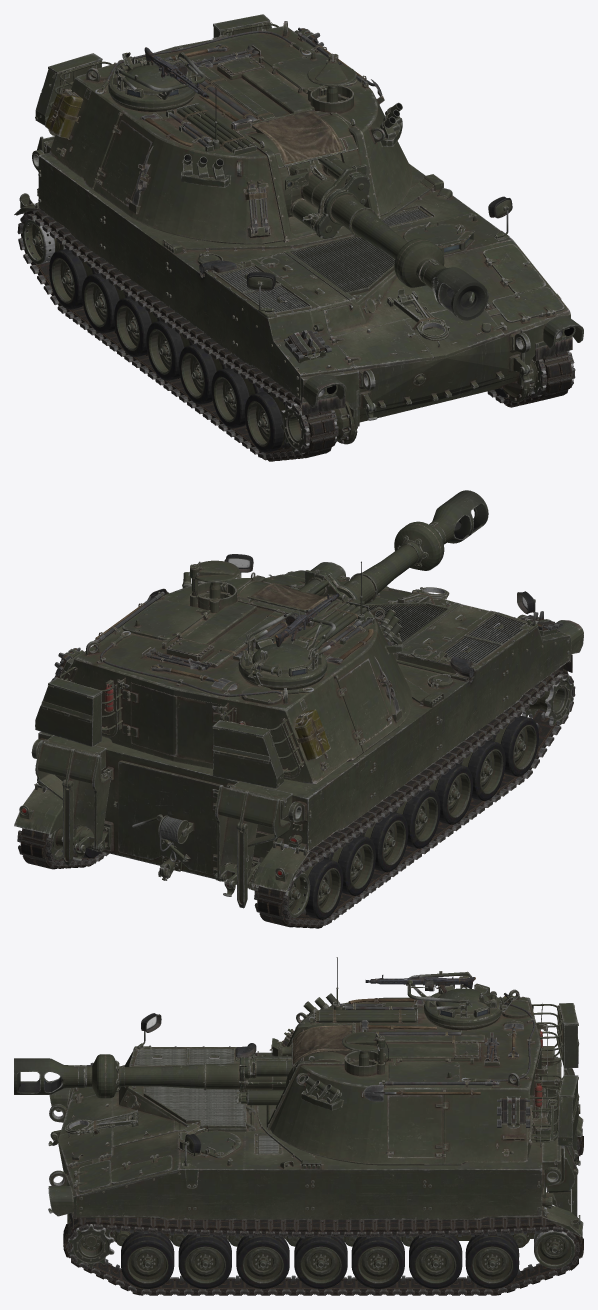
3 renders of one model, top to bottom at view 1: azimuth 30°, elevation 25°; view 2: azimuth 150°, elevation 25°; view 3: azimuth 270°, elevation 25°, orthographic. The views are drawn at different scales.
Parts seen in each view (by area): view 1: vehicle#x_root_88, vehicle#bone_turret_20, vehicle#track_r_78, vehicle#gun_barrel_44, vehicle#gun_mask_43, vehicle#hatch_05_76, vehicle#hatch_02_58, vehicle#ex_decor_13_89, vehicle#hatch_08_26, vehicle#hatch_01_57, vehicle#wheel_r_01_9, vehicle#bone_mg_h_37 (+27 smaller); view 2: vehicle#x_root_88, vehicle#bone_turret_20, vehicle#track_r_78, vehicle#hatch_13_54, vehicle#ex_armor_l_01_64, vehicle#gun_barrel_44, vehicle#ex_armor_r_01_63, vehicle#ex_decor_r_04_29, vehicle#ex_decor_l_04_34, vehicle#hatch_11_21, vehicle#hatch_08_26, vehicle#hatch_12_33 (+28 smaller); view 3: vehicle#x_root_88, vehicle#bone_turret_20, vehicle#track_l_83, vehicle#gun_barrel_44, vehicle#hatch_05_76, vehicle#hatch_07_32, vehicle#gun_mask_43, vehicle#ex_decor_l_04_34, vehicle#wheel_l_01_19, vehicle#wheel_l_07_82, vehicle#wheel_l_02_17, vehicle#wheel_l_03_15 (+29 smaller).
Part boxes in pixels (x1=…): vehicle#x_root_88: x1=32, y1=149, x2=583, y2=444; vehicle#bone_turret_20: x1=49, y1=21, x2=412, y2=244; vehicle#track_r_78: x1=17, y1=208, x2=338, y2=461; vehicle#gun_barrel_44: x1=351, y1=210, x2=488, y2=320; vehicle#gun_mask_43: x1=285, y1=154, x2=376, y2=238; vehicle#hatch_05_76: x1=203, y1=235, x2=395, y2=305; vehicle#hatch_02_58: x1=330, y1=320, x2=433, y2=369; vehicle#ex_decor_13_89: x1=249, y1=109, x2=346, y2=167; vehicle#hatch_08_26: x1=92, y1=115, x2=152, y2=206; vehicle#hatch_01_57: x1=405, y1=303, x2=507, y2=359; vehicle#wheel_r_01_9: x1=244, y1=392, x2=291, y2=452; vehicle#bone_mg_h_37: x1=108, y1=52, x2=199, y2=108; vehicle#x_root_88: x1=31, y1=562, x2=583, y2=891; vehicle#bone_turret_20: x1=59, y1=564, x2=412, y2=784; vehicle#track_r_78: x1=254, y1=668, x2=575, y2=928; vehicle#hatch_13_54: x1=114, y1=760, x2=228, y2=875; vehicle#ex_armor_l_01_64: x1=35, y1=741, x2=110, y2=865; vehicle#gun_barrel_44: x1=362, y1=490, x2=488, y2=594; vehicle#ex_armor_r_01_63: x1=214, y1=785, x2=290, y2=908; vehicle#ex_decor_r_04_29: x1=212, y1=707, x2=304, y2=788; vehicle#ex_decor_l_04_34: x1=35, y1=667, x2=122, y2=746; vehicle#hatch_11_21: x1=127, y1=682, x2=176, y2=756; vehicle#hatch_08_26: x1=336, y1=658, x2=392, y2=752; vehicle#hatch_12_33: x1=176, y1=696, x2=223, y2=763; vehicle#x_root_88: x1=48, y1=1043, x2=578, y2=1243; vehicle#bone_turret_20: x1=266, y1=989, x2=547, y2=1165; vehicle#track_l_83: x1=63, y1=1216, x2=583, y2=1295; vehicle#gun_barrel_44: x1=14, y1=1054, x2=204, y2=1098; vehicle#hatch_05_76: x1=127, y1=1058, x2=254, y2=1131; vehicle#hatch_07_32: x1=386, y1=1094, x2=445, y2=1163; vehicle#gun_mask_43: x1=203, y1=1038, x2=370, y2=1105; vehicle#ex_decor_l_04_34: x1=528, y1=1072, x2=579, y2=1148; vehicle#wheel_l_01_19: x1=121, y1=1231, x2=174, y2=1288; vehicle#wheel_l_07_82: x1=465, y1=1233, x2=519, y2=1288; vehicle#wheel_l_02_17: x1=178, y1=1233, x2=231, y2=1288; vehicle#wheel_l_03_15: x1=236, y1=1235, x2=289, y2=1288.
Size of the model in its own units: 3.36 by 3.17 by 6.51.
17 materials, 16 textured.
